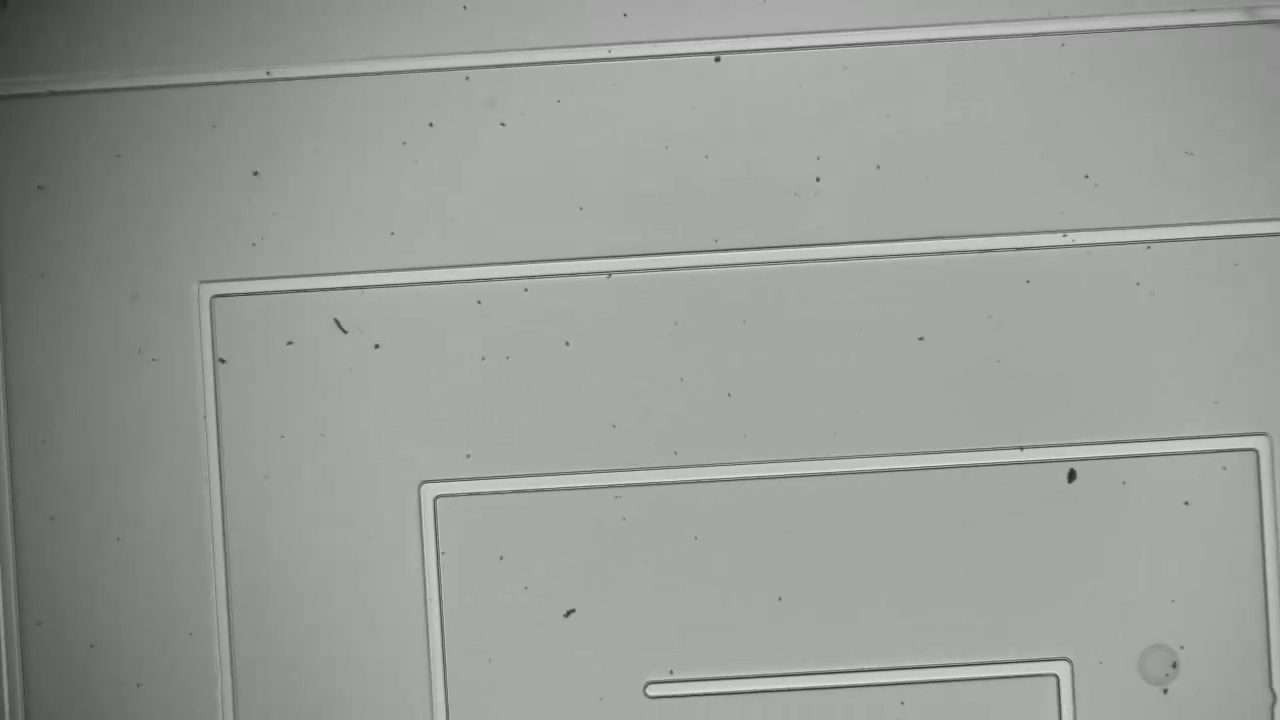edge_bite: (1261, 681, 1279, 713)
